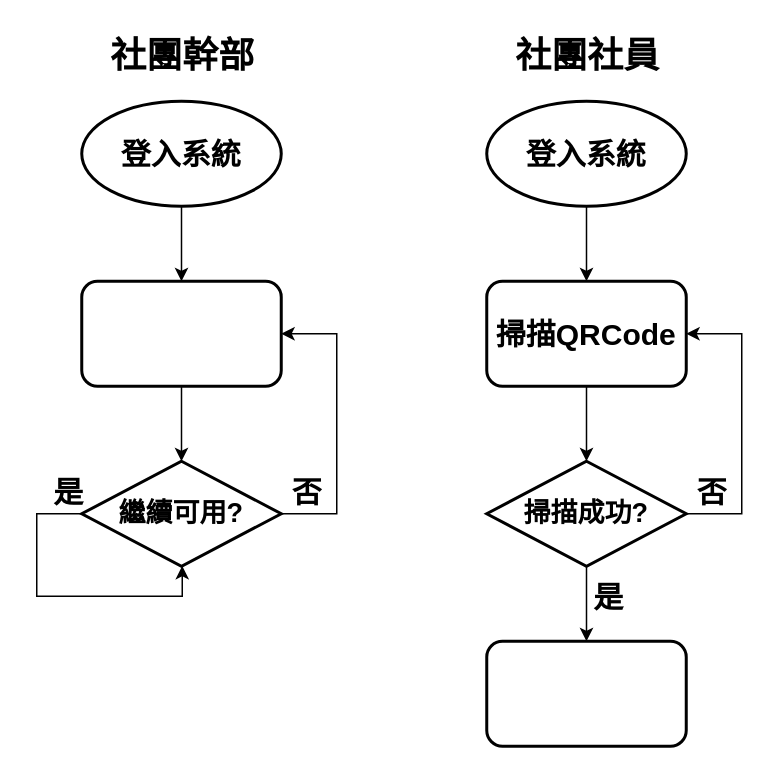
Image size: 780x773. Some labels were removed from this diagram. Here are the shapes that lost their labels. From the top down, the centre of each, then its label:
the point at 181,333: 產生QRCode
the point at 585,693: 確認打卡紀錄
